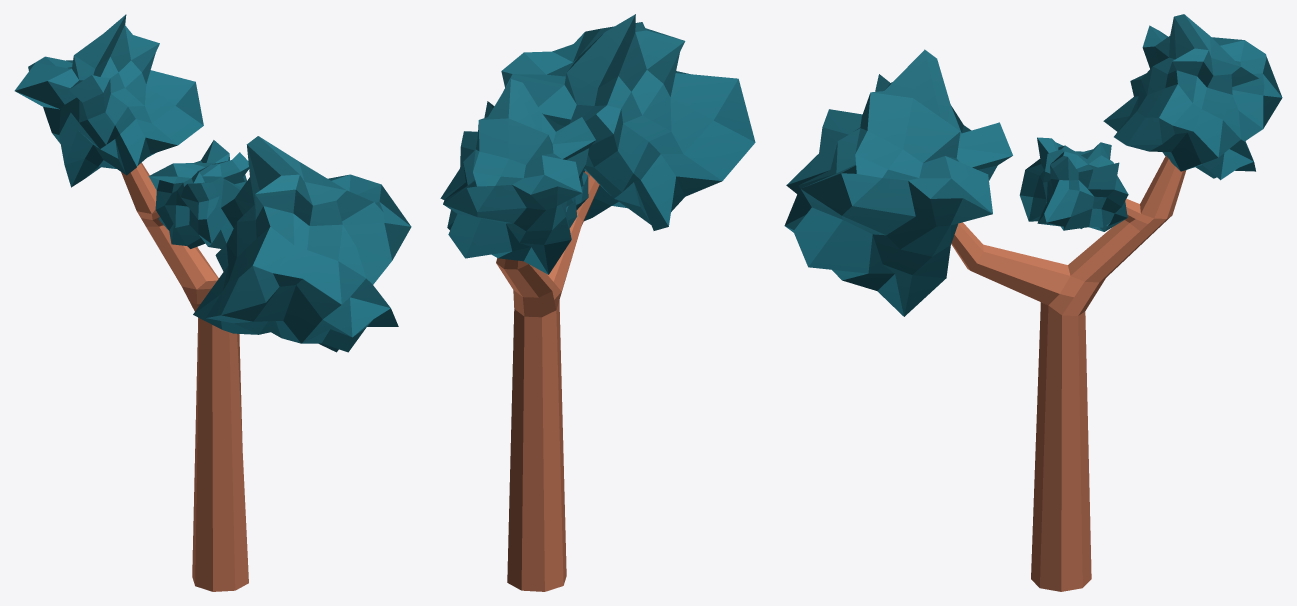
The model's file is Tree_03_gradient_blue_vc.fbx.
3 renders of one model, left to right at view 1: azimuth 30°, elevation 25°; view 2: azimuth 150°, elevation 25°; view 3: azimuth 270°, elevation 25°, orthographic. The views are drawn at different scales.
Parts seen in each view (by area): view 1: Tree_03_gradient_blue_vc; view 2: Tree_03_gradient_blue_vc; view 3: Tree_03_gradient_blue_vc.
Boxes of the visible parts, left/top/right/bottom form: Tree_03_gradient_blue_vc: left=14, top=14, right=411, bottom=591; Tree_03_gradient_blue_vc: left=440, top=14, right=755, bottom=591; Tree_03_gradient_blue_vc: left=784, top=14, right=1282, bottom=591.
Bounding box in the file's own units: 77.81 × 178 × 146.
